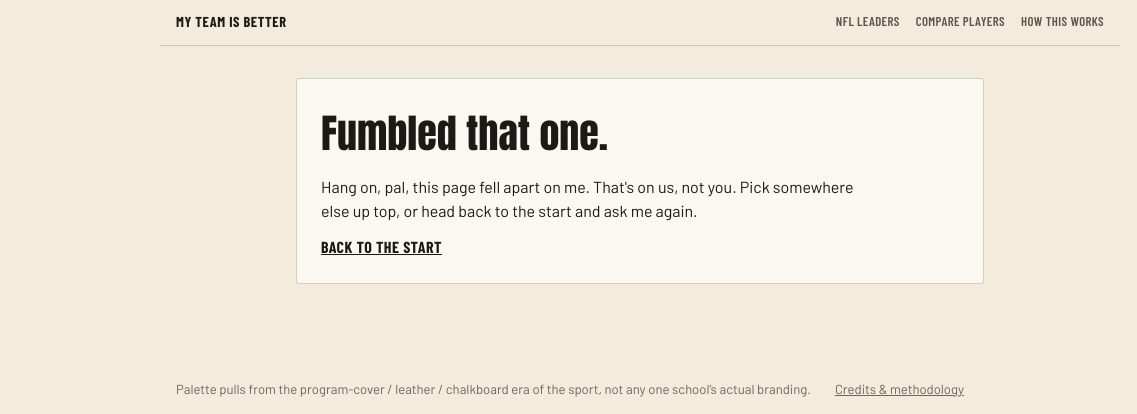
it: AppShell route error boundary (issue #268) › resets via the fallback link back to the start
Click the link "Back to the start": {"x": 381, "y": 247} 321,235 -> 442,259
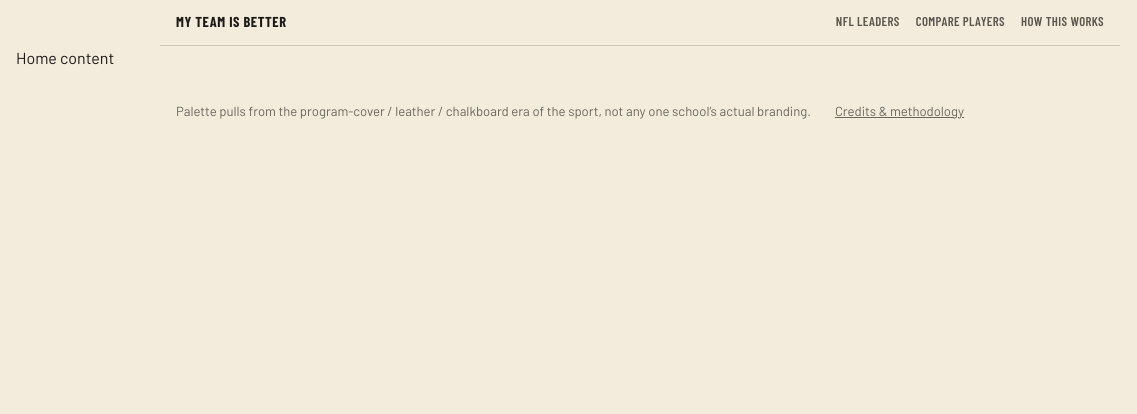
Check: the text "Home content" is shown, box 16,48 -> 114,67
Check: the message is gone
